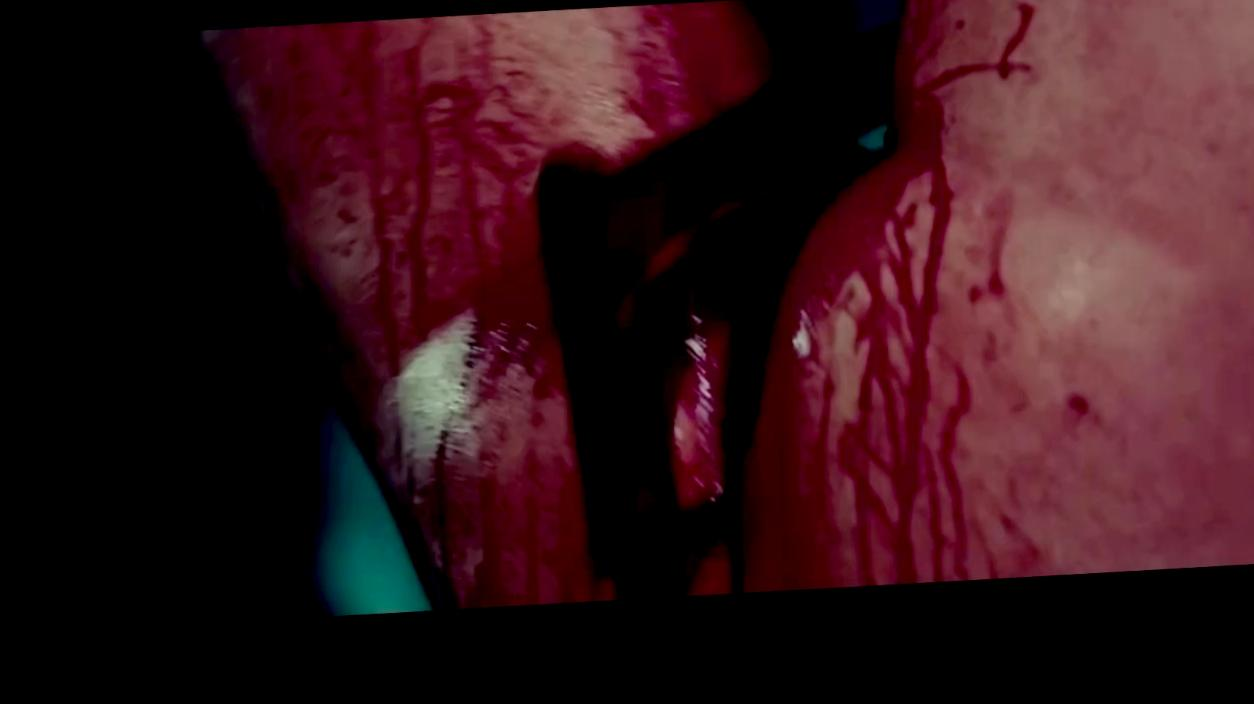Fire: (206, 6, 1037, 615)
